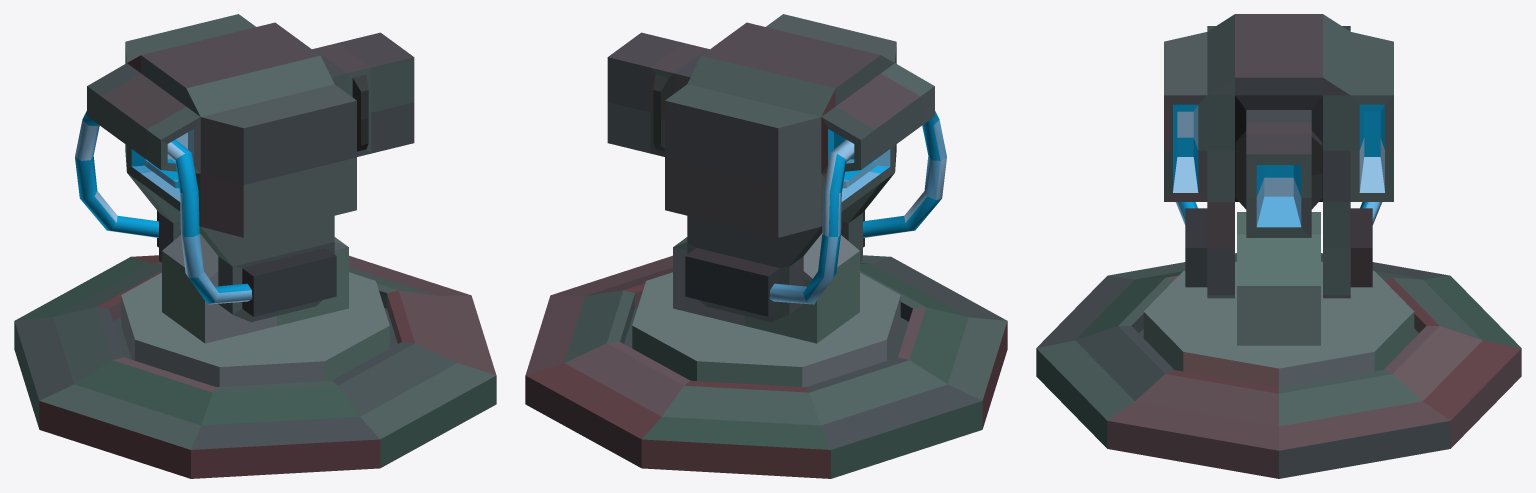
File: Turret.fbx
The picture shows the model from 3 angles, left to right: view 1: azimuth 30°, elevation 25°; view 2: azimuth 150°, elevation 25°; view 3: azimuth 270°, elevation 25°; orthographic projection. The views are drawn at different scales.
Parts seen in each view (by area): view 1: Cube, Cylinder, Cylinder.001; view 2: Cube, Cylinder, Cylinder.001; view 3: Cylinder, Cube, Cylinder.001.
Part boxes in pixels (x1=…): Cube: x1=75, y1=14, x2=414, y2=322; Cylinder: x1=14, y1=255, x2=496, y2=478; Cylinder.001: x1=121, y1=233, x2=389, y2=386; Cube: x1=607, y1=14, x2=946, y2=322; Cylinder: x1=525, y1=255, x2=1007, y2=478; Cylinder.001: x1=632, y1=233, x2=900, y2=386; Cylinder: x1=1036, y1=253, x2=1521, y2=478; Cube: x1=1164, y1=14, x2=1393, y2=298; Cylinder.001: x1=1143, y1=212, x2=1414, y2=388.
Size of the model in its own units: 208 by 151 by 208.
